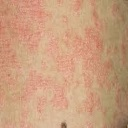Psoriasis: (55, 24, 126, 102), (1, 7, 31, 92)
